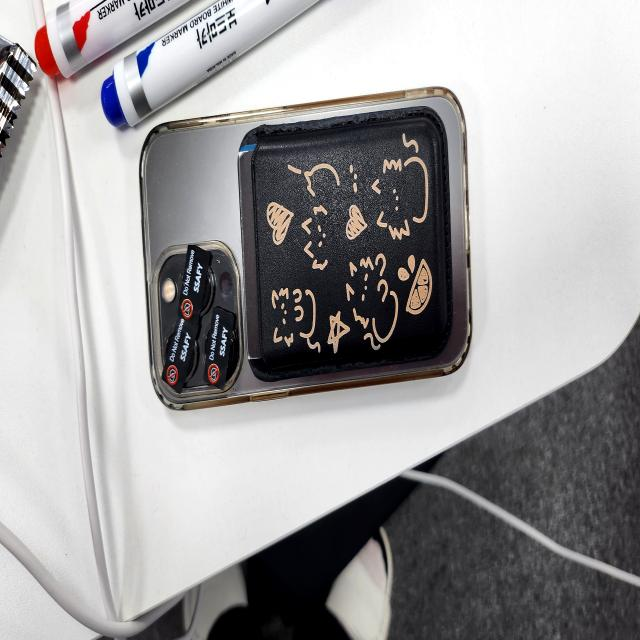phone: (138, 87, 473, 416)
sticker: (161, 309, 201, 396), (203, 305, 237, 393), (178, 241, 211, 320)
